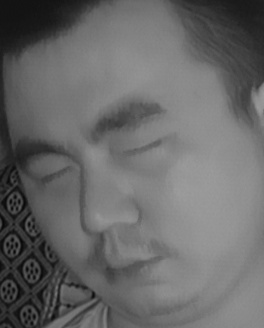blink: (117, 131, 171, 168), (32, 159, 78, 195)
mouth: (90, 243, 169, 291)
